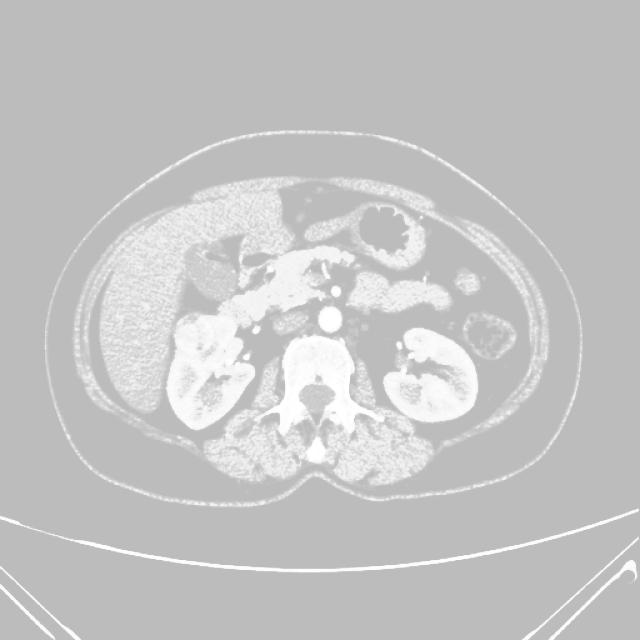TUMOR: (145, 161, 518, 441)
